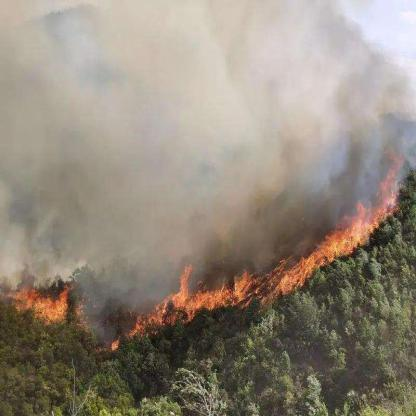fire: (122, 159, 404, 334), (10, 277, 75, 331)
